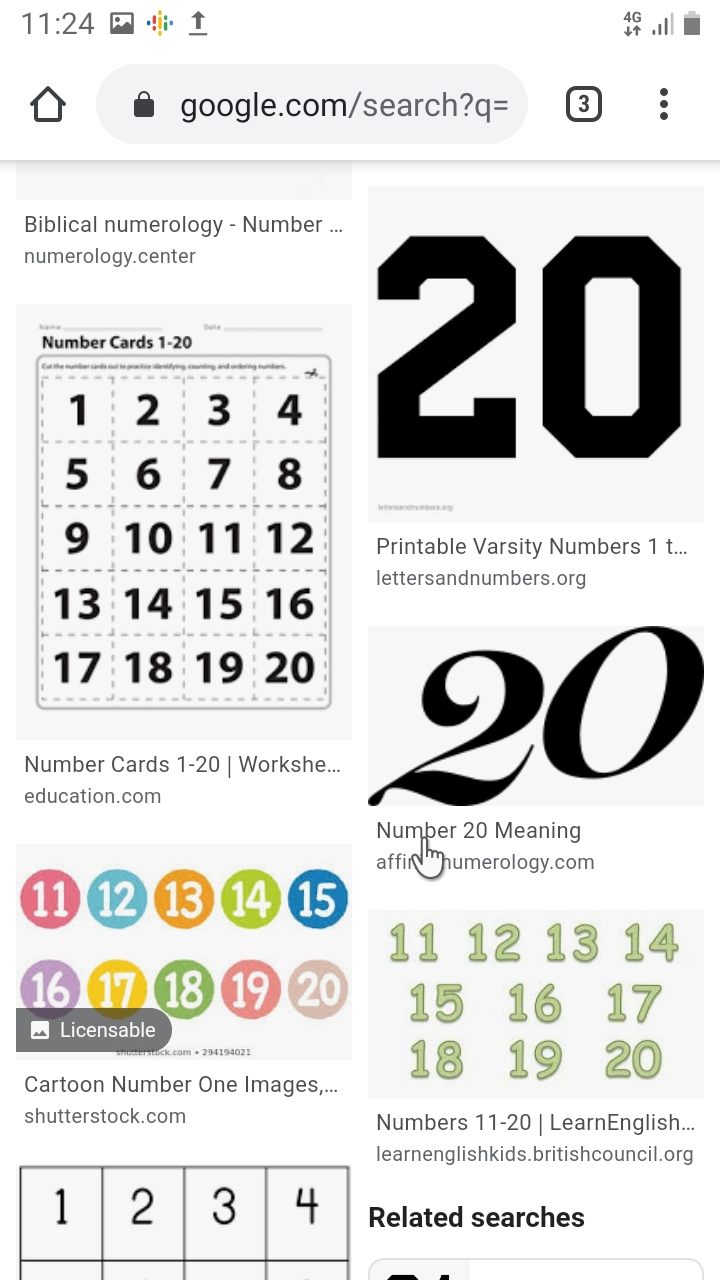20 kph: (368, 212, 696, 478), (368, 623, 720, 816), (280, 953, 359, 1043), (596, 1035, 680, 1094), (261, 639, 319, 698)
